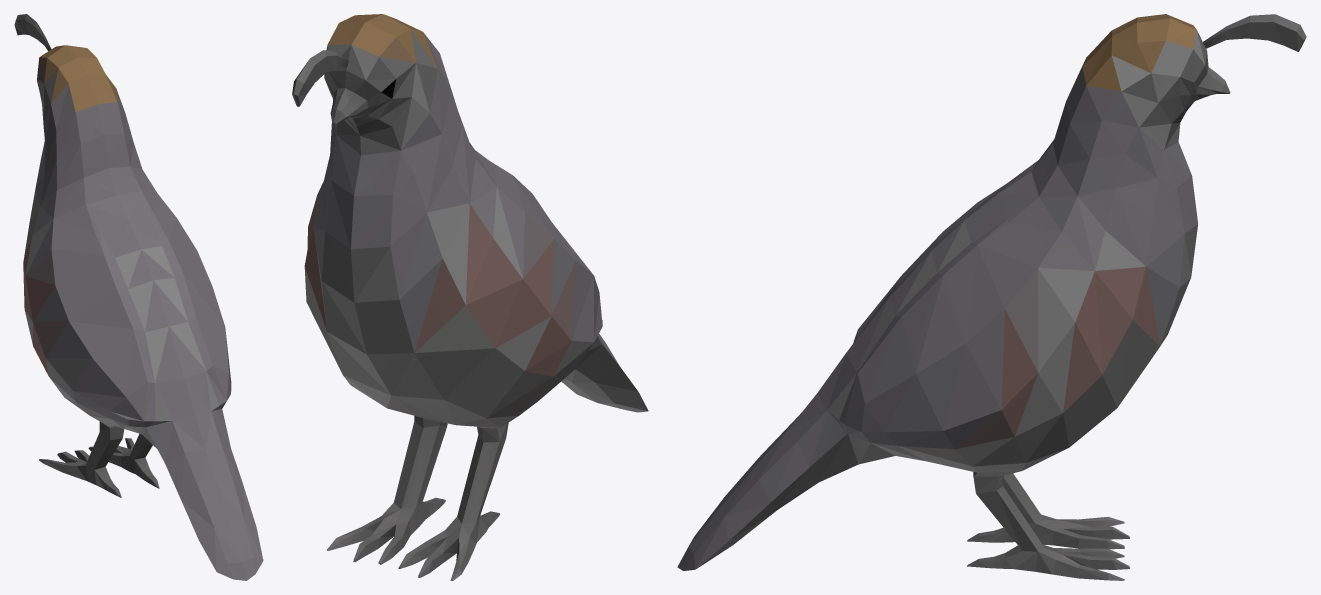
Rendered from schneehuhn.glb.
The picture shows the model from 3 angles, left to right: view 1: azimuth 30°, elevation 25°; view 2: azimuth 150°, elevation 25°; view 3: azimuth 270°, elevation 25°; orthographic projection. The views are drawn at different scales.
Parts seen in each view (by area): view 1: GambelsQuail_Mesh; view 2: GambelsQuail_Mesh; view 3: GambelsQuail_Mesh.
Part boxes in pixels (x1=…): GambelsQuail_Mesh: x1=14, y1=14, x2=263, y2=580; GambelsQuail_Mesh: x1=292, y1=14, x2=648, y2=580; GambelsQuail_Mesh: x1=677, y1=14, x2=1306, y2=580.
Bounding box in the file's own units: 0.4255 × 1.01 × 1.04.
